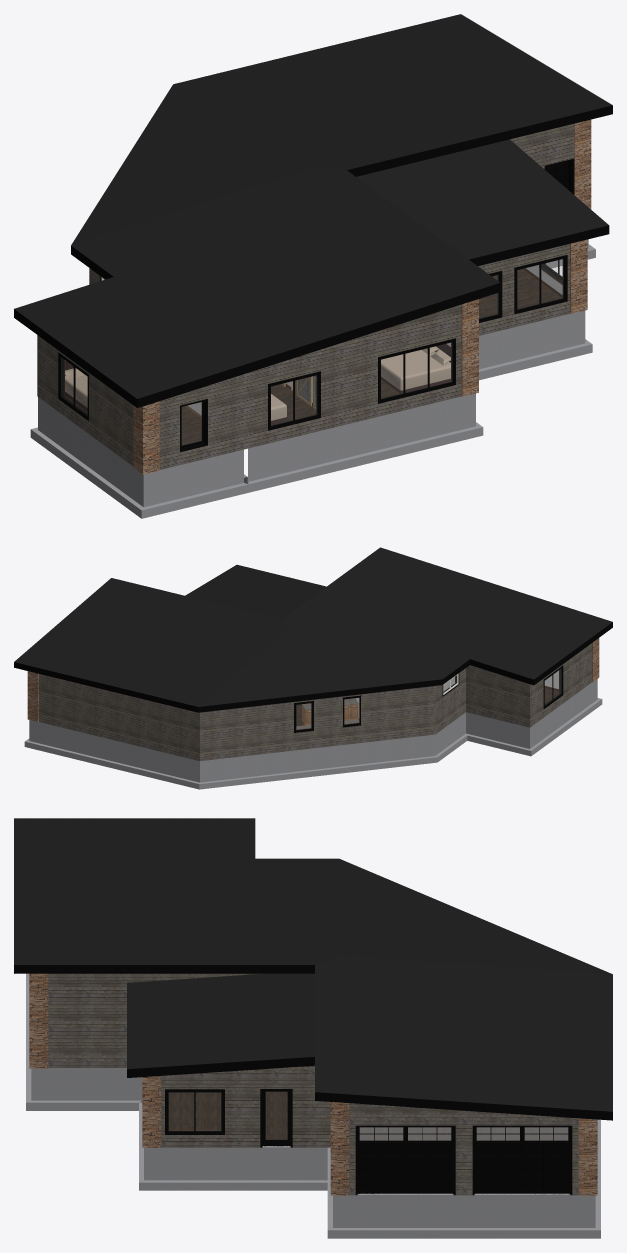
3 views of the same model, one above another, from view 1: azimuth 30°, elevation 25°; view 2: azimuth 150°, elevation 25°; view 3: azimuth 270°, elevation 25° (orthographic). The views are drawn at different scales.
Parts seen in each view (by area): view 1: skfb_offset; view 2: skfb_offset; view 3: skfb_offset.
Part boxes in pixels (x1,y1,x2,y2): skfb_offset: [14, 14, 612, 518]; skfb_offset: [14, 547, 612, 789]; skfb_offset: [14, 818, 612, 1238].
Bounding box in the file's own units: 23063 × 5413 × 19406.
55 materials, 34 textured.
